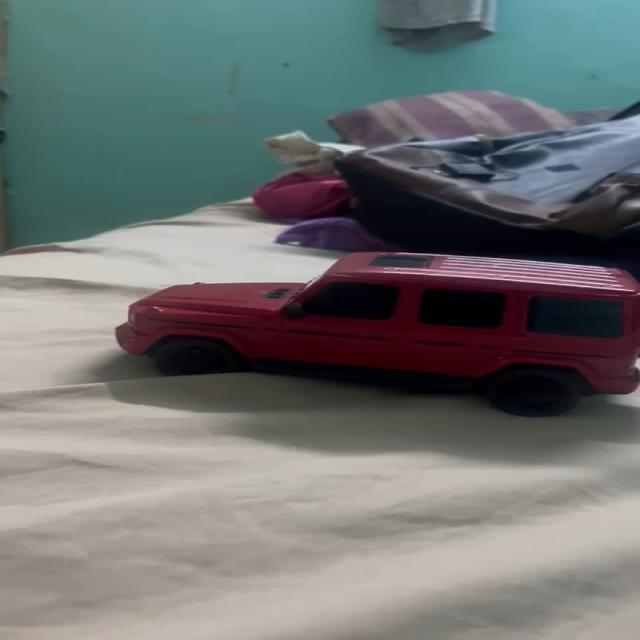light_vehicle: (101, 247, 640, 413)
